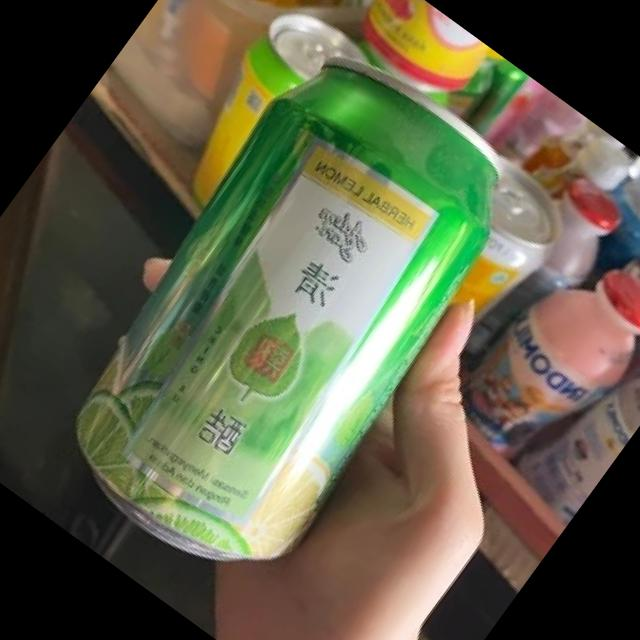ademsarikaleng: (22, 19, 560, 610)
